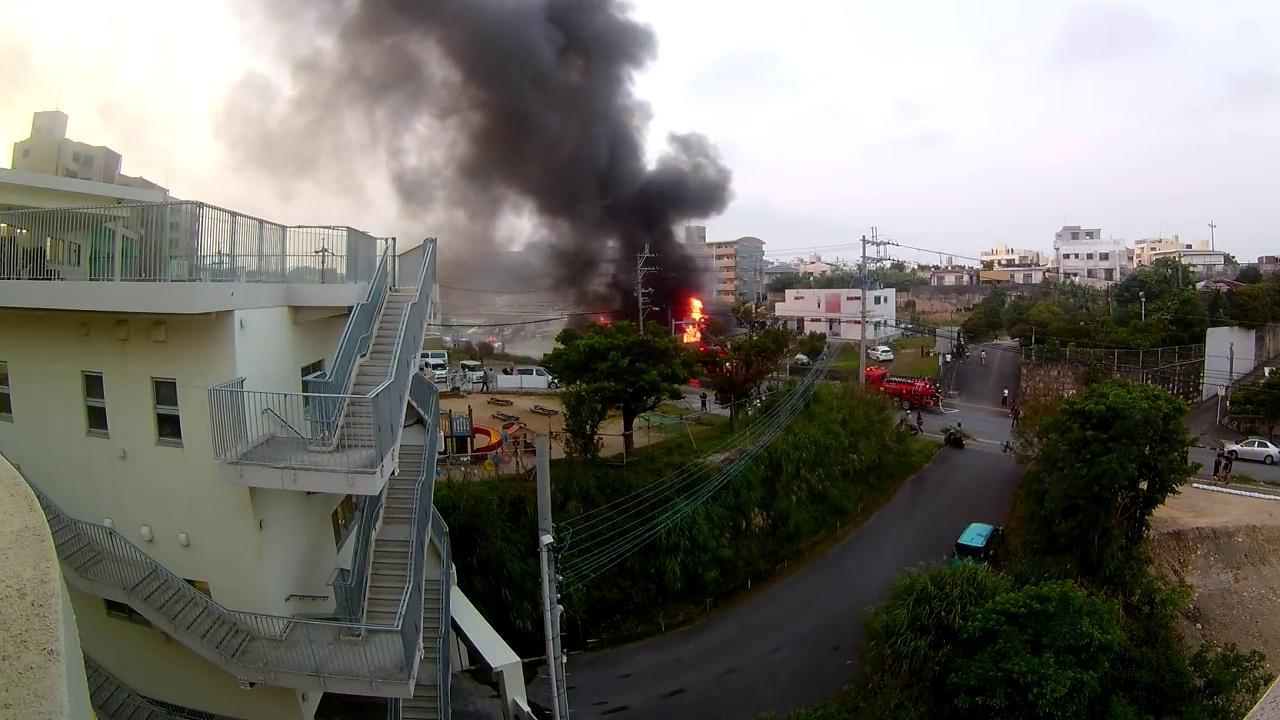Fire: (678, 296, 710, 345)
